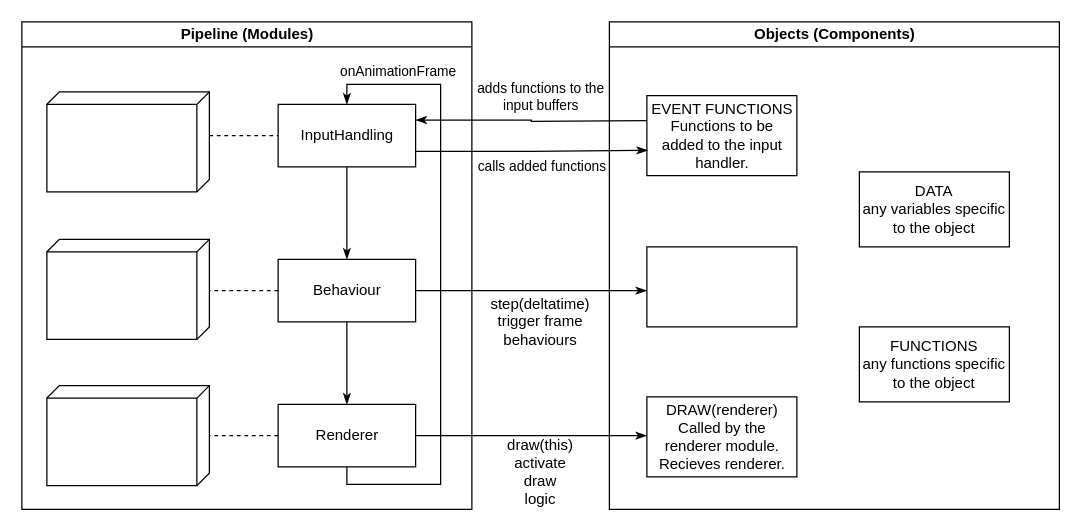
Image size: 1081x531. Some labels were removed from this diagram. The centre of each missing label's shape, as x and y in pixels:
"Contains event buffers for different input that any object may hook into." goes at point 127,141.
"Runs each objects draw method each frame." goes at point 127,435.
"Runs object behaviours that each frame." goes at point 127,288.
"STEP(deltatime) Called by the behaviour module. Recieves deltatime." goes at point 721,286.
